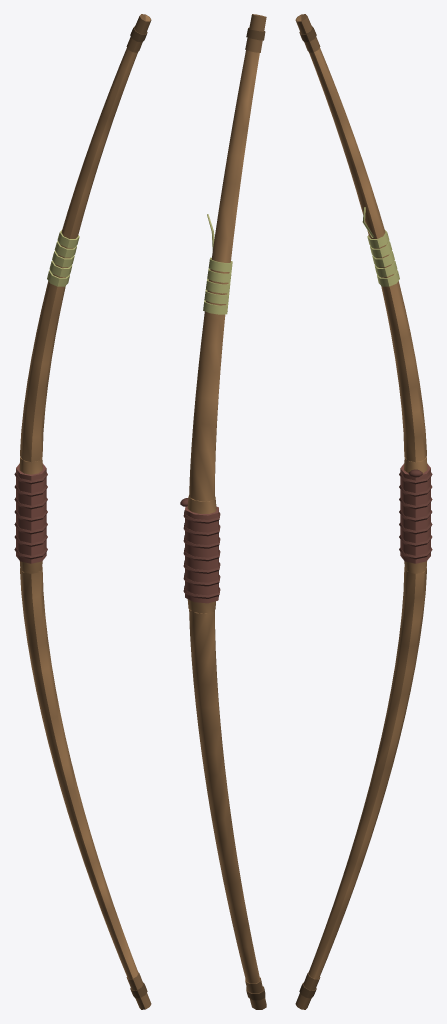
The model's file is bow_hunting_bow.glb.
3 views of the same model, side by side, from view 1: azimuth 90°, elevation 25°; view 2: azimuth 150°, elevation 25°; view 3: azimuth 270°, elevation 25° (orthographic).
Parts seen in each view (by area): view 1: bow_hunting_bow_limb_top, bow_hunting_bow_limb_bottom, bow_hunting_bow_riser; view 2: bow_hunting_bow_limb_top, bow_hunting_bow_limb_bottom, bow_hunting_bow_riser; view 3: bow_hunting_bow_limb_top, bow_hunting_bow_limb_bottom, bow_hunting_bow_riser.
Boxes of the visible parts, <box> form: bow_hunting_bow_limb_top: <box>20,14,151,462</box>; bow_hunting_bow_limb_bottom: <box>20,567,151,1009</box>; bow_hunting_bow_riser: <box>14,457,47,573</box>; bow_hunting_bow_limb_top: <box>189,14,266,501</box>; bow_hunting_bow_limb_bottom: <box>189,609,266,1009</box>; bow_hunting_bow_riser: <box>180,496,220,613</box>; bow_hunting_bow_limb_top: <box>295,14,426,462</box>; bow_hunting_bow_limb_bottom: <box>295,567,426,1009</box>; bow_hunting_bow_riser: <box>399,457,432,573</box>.
Size of what is drawn, in the model's own units: 0.0501 by 1.25 by 0.1559.
